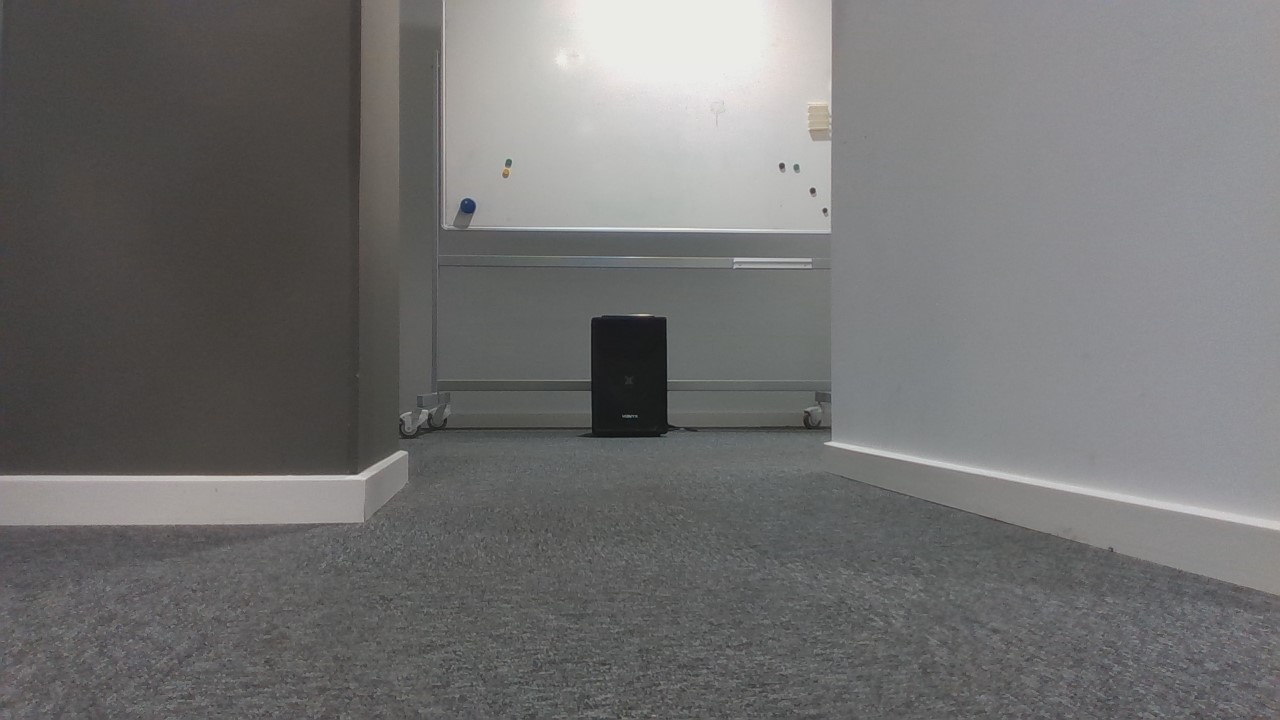alfa: (459, 196, 478, 217)
